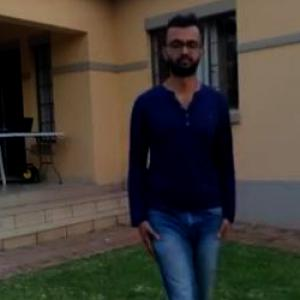follow: (124, 13, 238, 299)
